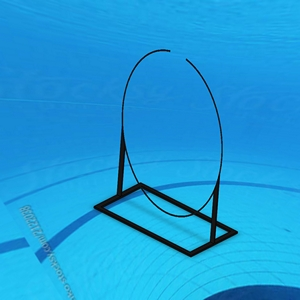circle: (92, 47, 242, 263)
